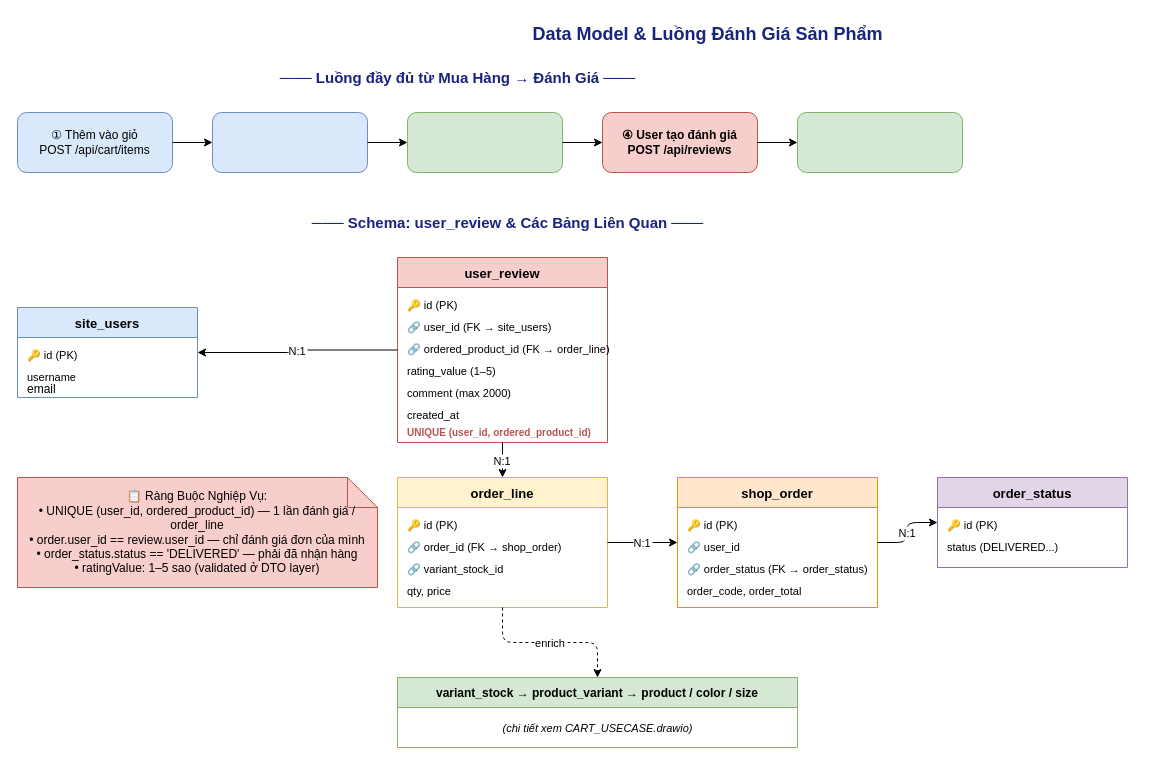
This 1175x765 diagram has some shape labels left out. The centre of each missing label's shape, as x and y in pixels:
② Đặt hàng POST /api/orders: pixel 290 142
③ Admin giao hàng Status → DELIVERED: pixel 484 142
⑤ Hiện review GET /api/reviews/product/{id}: pixel 879 142
